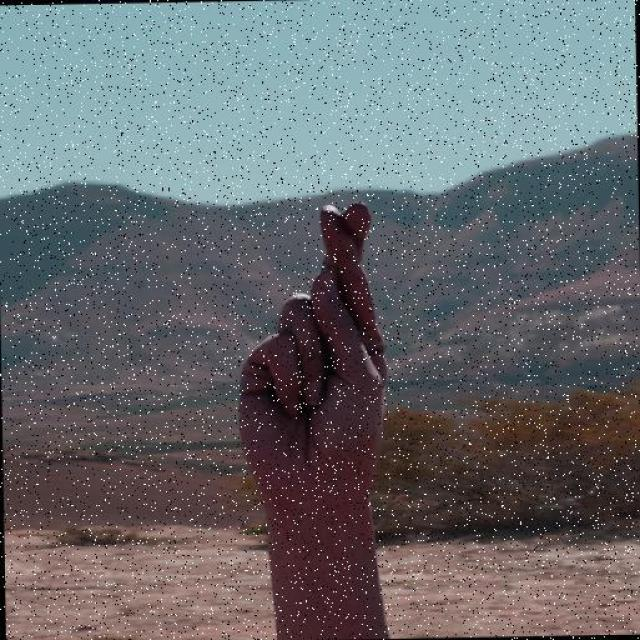R: (233, 200, 391, 510)
